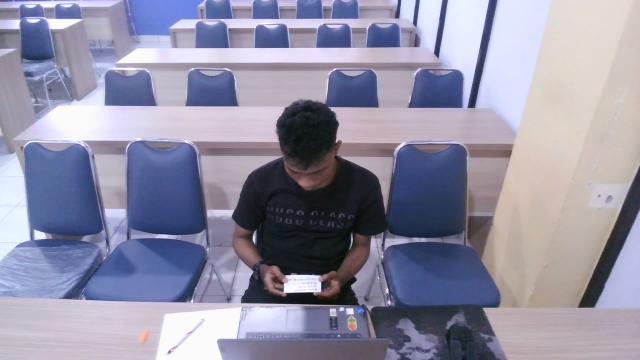Cheat_Sheet: (276, 269, 326, 299)
Head_Down_Extreme: (226, 96, 385, 338)
